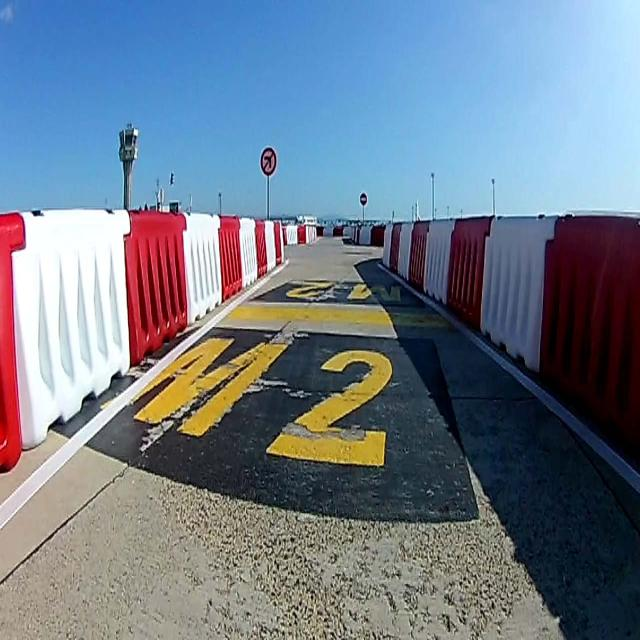soladonulmez: (261, 148, 277, 176)
